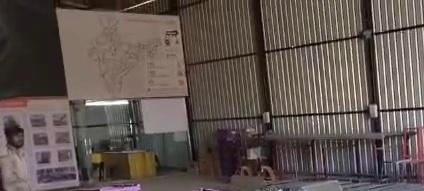box: (76, 184, 139, 190), (197, 189, 214, 190)
